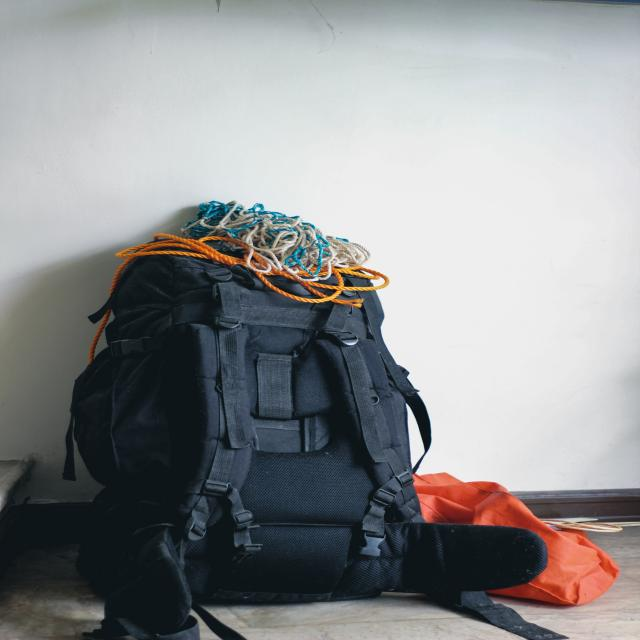backpack: (64, 235, 552, 616)
